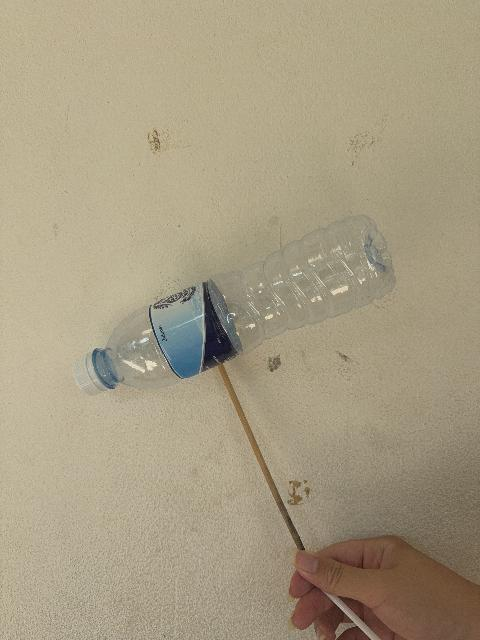bottle: (74, 216, 395, 395)
